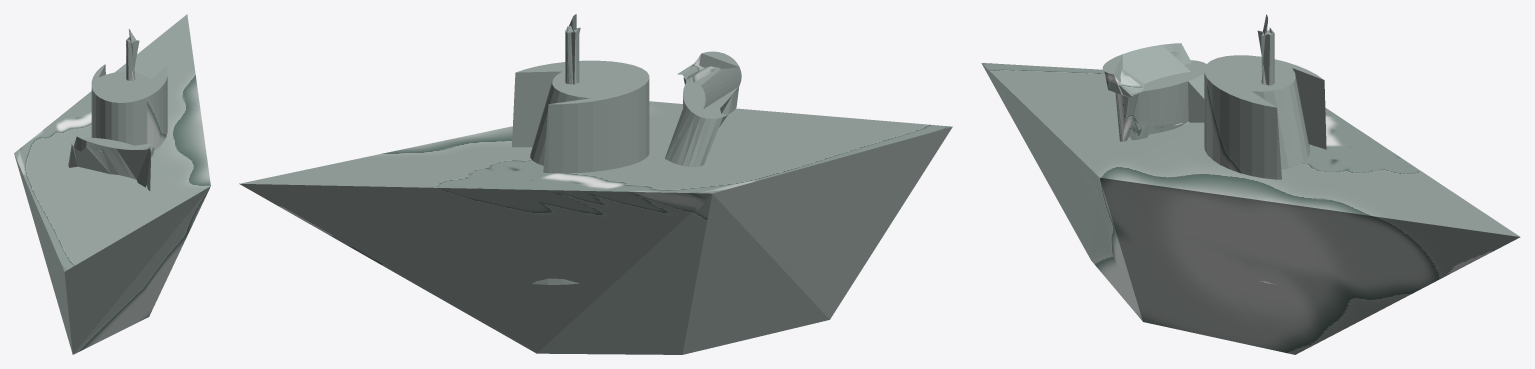
File: boat_Base2.dae
The picture shows the model from 3 angles, left to right: view 1: azimuth 30°, elevation 25°; view 2: azimuth 150°, elevation 25°; view 3: azimuth 270°, elevation 25°; orthographic projection. The views are drawn at different scales.
Parts seen in each view (by area): view 1: Cube; view 2: Cube; view 3: Cube.
Part boxes in pixels (x1,y1,x2,y2): Cube: (14, 14, 210, 354); Cube: (239, 14, 952, 354); Cube: (981, 14, 1520, 354).
Bounding box in the file's own units: 5.09 × 5.51 × 3.71.
Materials: 1 (1 with a texture image).
